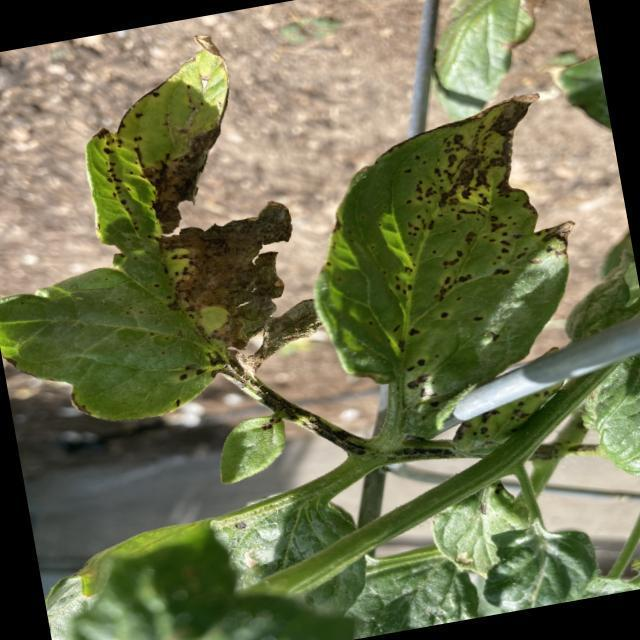Bacterial Spot: (338, 128, 542, 388), (450, 393, 553, 454)
